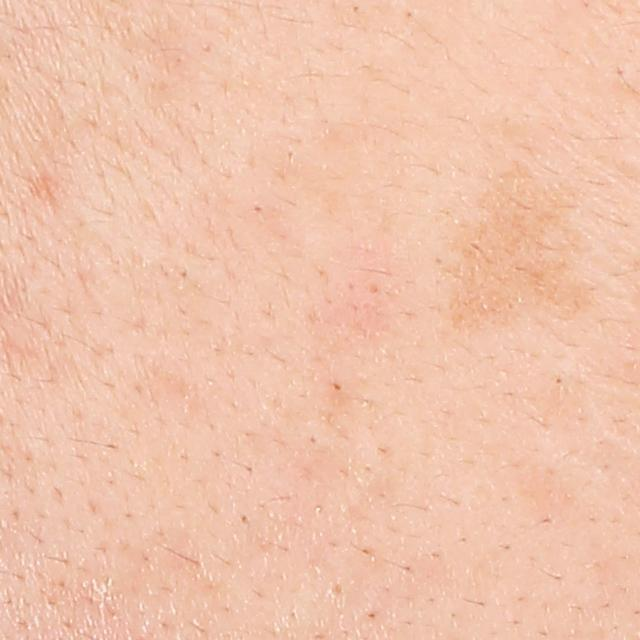comedo: (548, 371, 569, 390)
